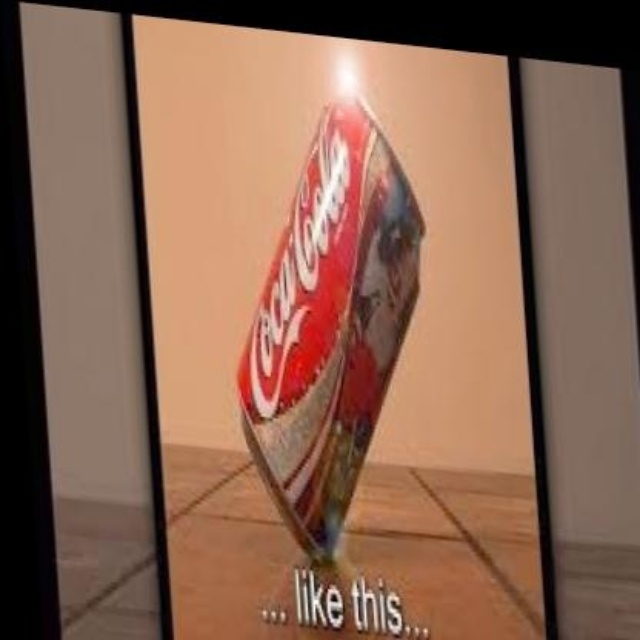trash: (238, 98, 423, 562)
